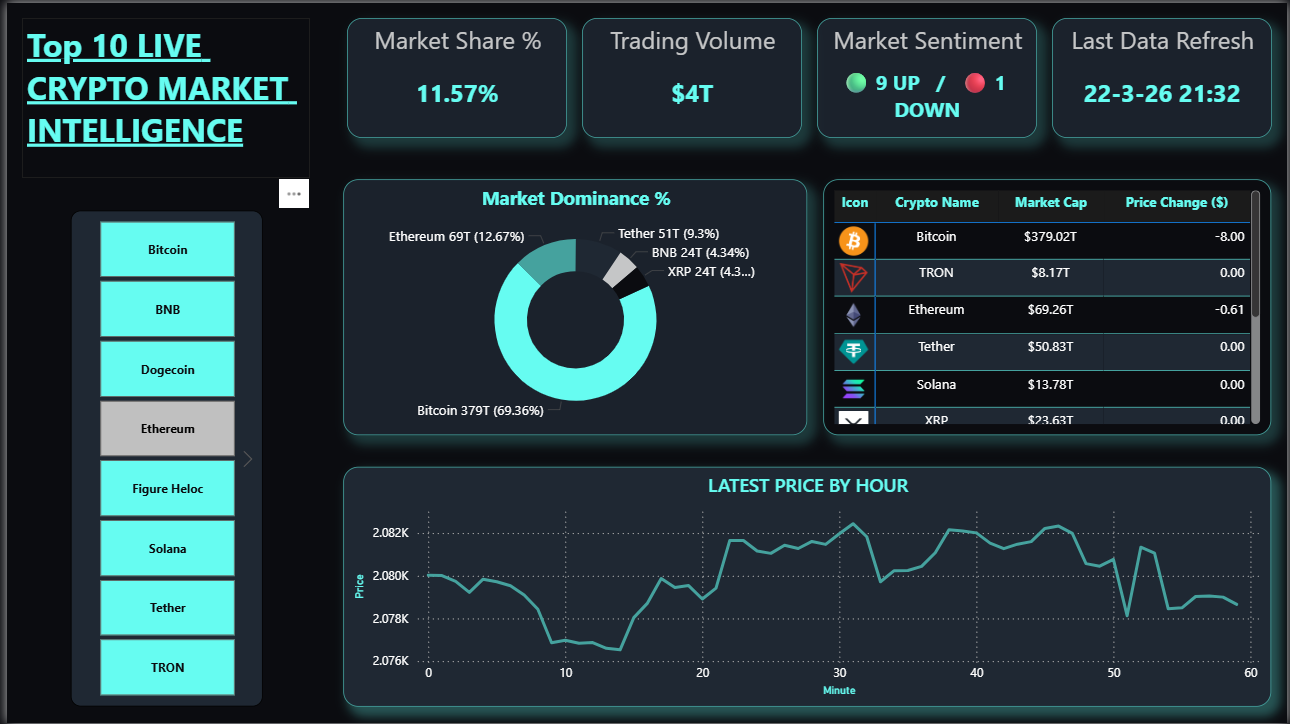

The dashboard page shown, as its layout file describes it:
{"tool":"powerbi","page":{"name":"Page 1","canvas":[1280,720],"ordinal":0},"visuals":[{"type":"pivotTable","fields":{"Rows":["public live_crypto_data.image"],"Values":["Min(public live_crypto_data.name)","Sum(public live_crypto_data.market_cap)","public live_crypto_data.Price Change ($)"]},"box":[816,176,448,256],"z":0},{"type":"donutChart","title":"Market Dominance %","fields":{"Category":["public live_crypto_data.name"],"Y":["Sum(public live_crypto_data.market_cap)"]},"box":[336,176,464,256],"z":1000},{"type":"card","title":"Market Sentiment","fields":{"Values":["public live_crypto_data.Market Sentiment"]},"box":[809.9,15,220,120],"z":2000},{"type":"card","title":"Trading Volume","fields":{"Values":["public live_crypto_data.Total Trading Volume"]},"box":[574.7,15,220,120],"z":3000},{"type":"slicer","fields":{"Values":["public live_crypto_data.name"]},"box":[64,208,192,496],"z":4000},{"type":"card","title":"Last Data Refresh","fields":{"Values":["public live_crypto_data.Last Update Time"]},"box":[1045,15,220,120],"z":5000},{"type":"card","title":"Market Share %","fields":{"Values":["public live_crypto_data.Market Share %"]},"box":[339.6,15,220,120],"z":6000},{"type":"textbox","box":[15,15,288,160],"z":7000},{"type":"lineChart","title":"LATEST PRICE BY HOUR","fields":{"Category":["public live_crypto_data.minute"],"Series":["public live_crypto_data.name"],"Y":["public live_crypto_data.Latest Price"]},"box":[336,464,928,240],"z":8000}]}

Visuals, with their boxes in screenshot pixels (x1, y1, x2, y2), scaled from the page's 1280x720 canvas onto the 1290x724 screenshot:
pivotTable - public live_crypto_data.image x Min(public live_crypto_data.name): bbox=[822, 177, 1274, 434]
"Market Dominance %" donutChart: bbox=[339, 177, 806, 434]
"Market Sentiment" card: bbox=[816, 15, 1038, 136]
"Trading Volume" card: bbox=[579, 15, 801, 136]
slicer - public live_crypto_data.name: bbox=[64, 209, 258, 708]
"Last Data Refresh" card: bbox=[1053, 15, 1275, 136]
"Market Share %" card: bbox=[342, 15, 564, 136]
textbox: bbox=[15, 15, 305, 176]
"LATEST PRICE BY HOUR" lineChart: bbox=[339, 467, 1274, 708]
